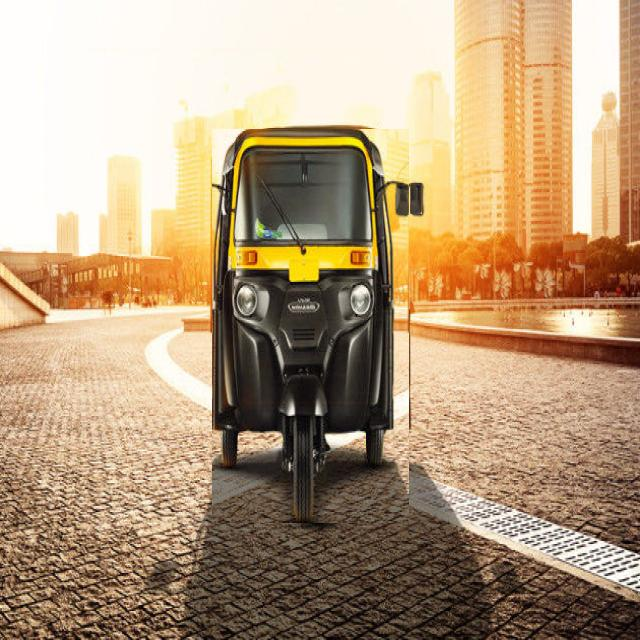autorickshaw: (213, 130, 409, 523), (411, 184, 422, 214)
